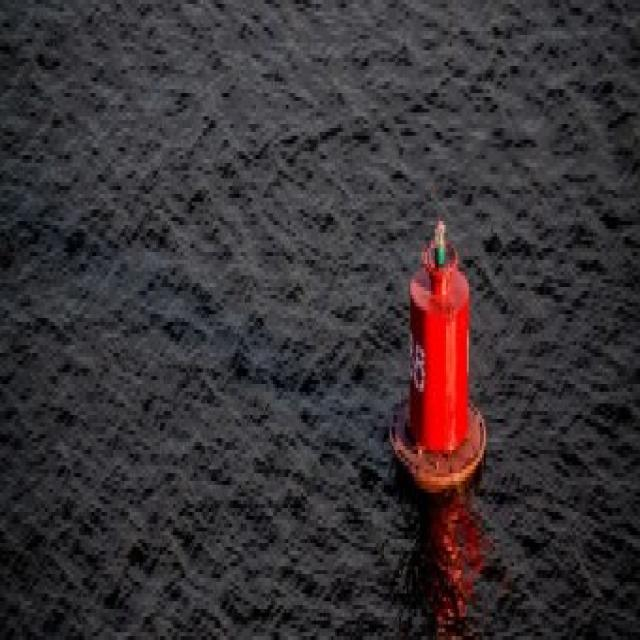marque: (386, 204, 493, 516)
